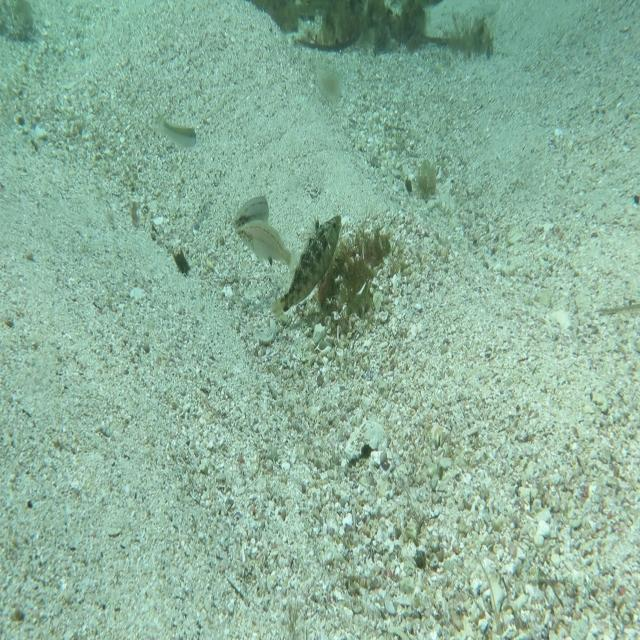Coris_julis_female: (149, 108, 202, 171)
ROLL: (266, 212, 345, 330)
female: (230, 191, 272, 245)
nest: (306, 224, 402, 340)
other_fish: (235, 215, 301, 283)
